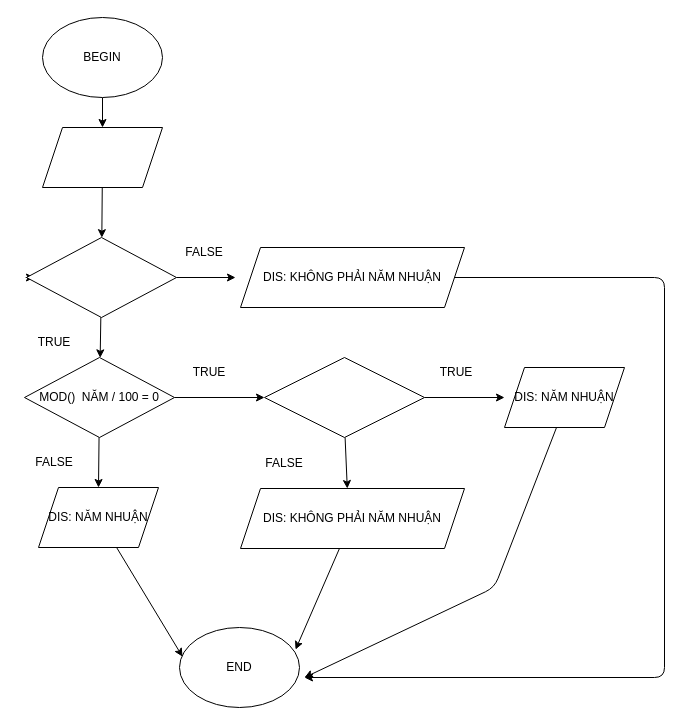
Image size: 690x725. Some labels were removed from this diagram. Each missing label, with the box of its shape:
iNPUT: NĂM: (42, 126, 162, 188)
MOD() : NĂM / 400 = 0: (264, 356, 424, 438)
MOD() NĂM / 4=0: (26, 236, 176, 318)
